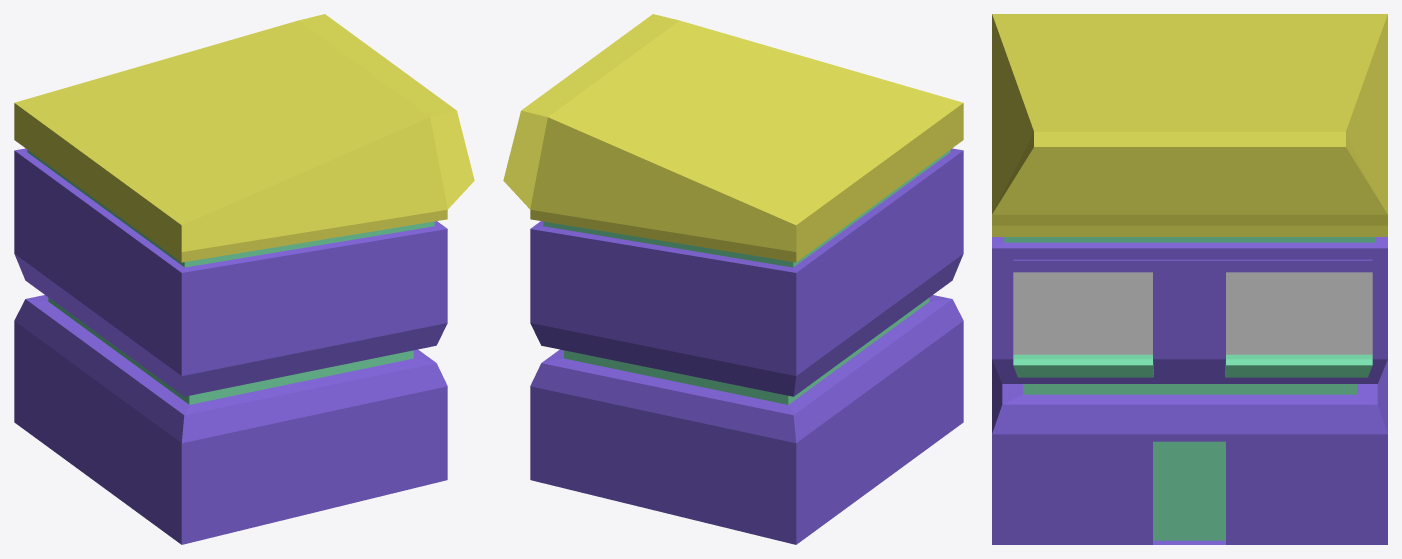
Rendered from FBX_UC_mBuilding_5.fbx.
The picture shows the model from 3 angles, left to right: view 1: azimuth 30°, elevation 25°; view 2: azimuth 150°, elevation 25°; view 3: azimuth 270°, elevation 25°; orthographic projection. The views are drawn at different scales.
Parts seen in each view (by area): view 1: FBX_UC_mBuilding_5; view 2: FBX_UC_mBuilding_5; view 3: FBX_UC_mBuilding_5.
Part boxes in pixels (x1,y1,x2,y2): FBX_UC_mBuilding_5: (14,14,474,544); FBX_UC_mBuilding_5: (503,14,963,544); FBX_UC_mBuilding_5: (992,14,1387,544).
Bounding box in the file's own units: 914 × 1043 × 905.
